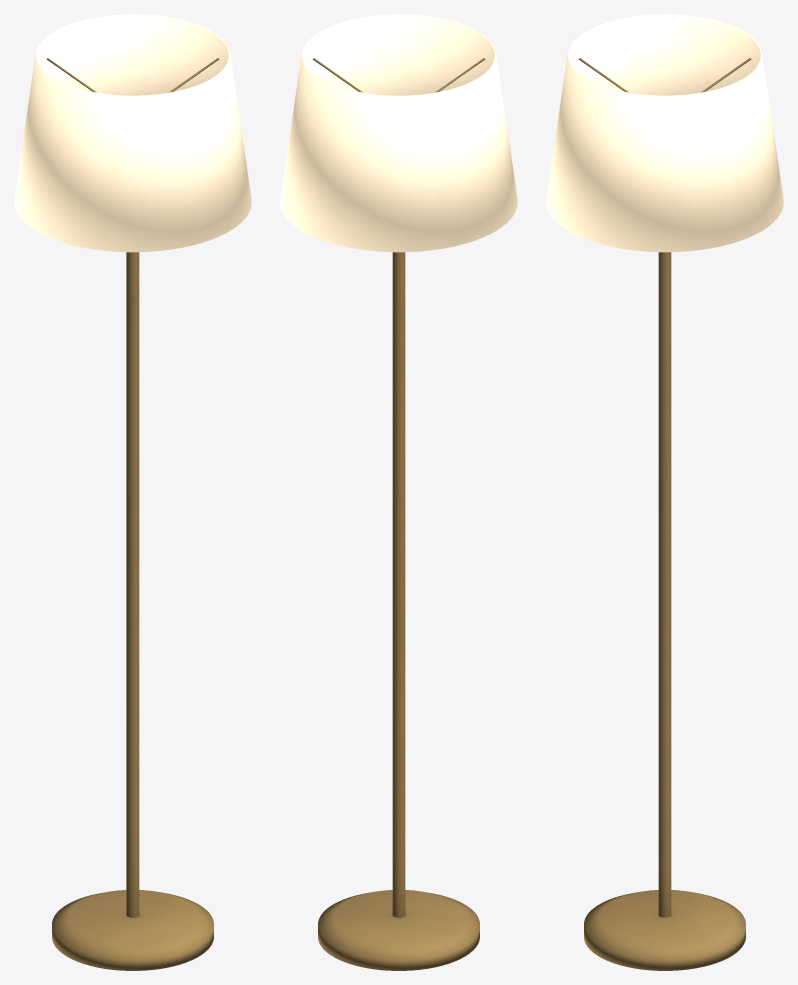
File: column-brass.glb
The picture shows the model from 3 angles, left to right: view 1: azimuth 30°, elevation 25°; view 2: azimuth 150°, elevation 25°; view 3: azimuth 270°, elevation 25°; orthographic projection.
Visible parts, largest first — view 1: fabric_secondary_shade, brass; view 2: fabric_secondary_shade, brass; view 3: fabric_secondary_shade, brass.
Part boxes in pixels (left/top/right/bottom): fabric_secondary_shade: left=14, top=14, right=251, bottom=252; brass: left=46, top=58, right=219, bottom=970; fabric_secondary_shade: left=280, top=14, right=517, bottom=252; brass: left=312, top=58, right=485, bottom=970; fabric_secondary_shade: left=546, top=14, right=783, bottom=252; brass: left=578, top=58, right=751, bottom=970.
Size of the model in its own units: 0.44 by 1.8 by 0.44.
Materials: 3 (2 with a texture image).
